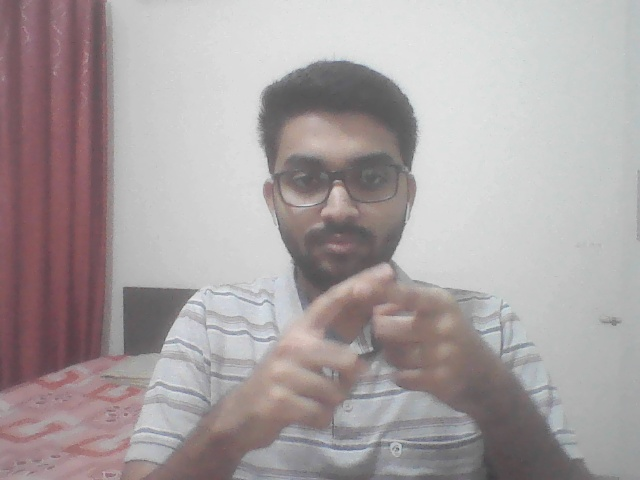friend: (232, 256, 495, 440)
